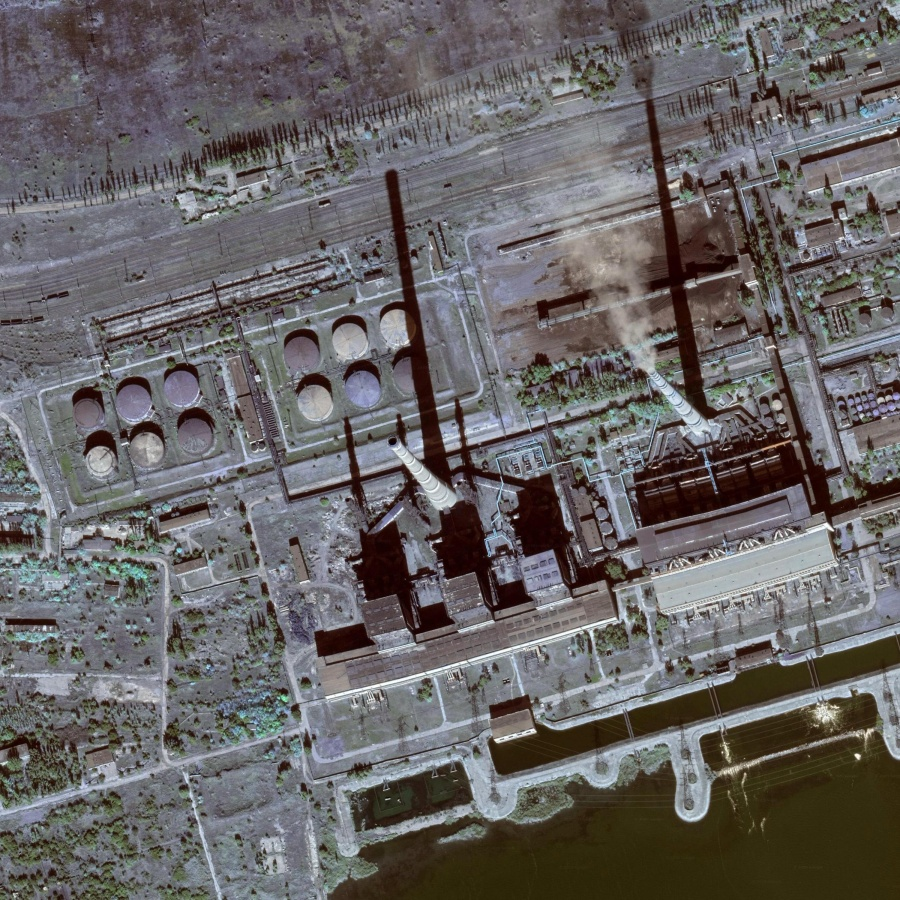PowerPlant: (256, 76, 855, 692), (34, 340, 242, 516)
